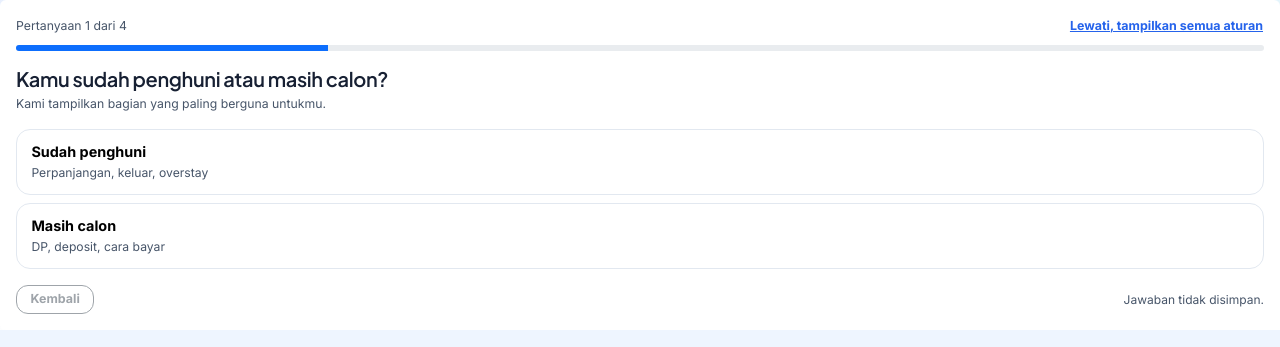
it: TenantRulesWizard — 4 pertanyaan, tanpa penyimpanan › tombol kembali mengembalikan ke pertanyaan sebelumnya
This screenshot has width=1280, height=347.
Step 1. Click the button "Masih calon DP, deposit, cara bayar" → (74, 226), box [16,203,1264,269]
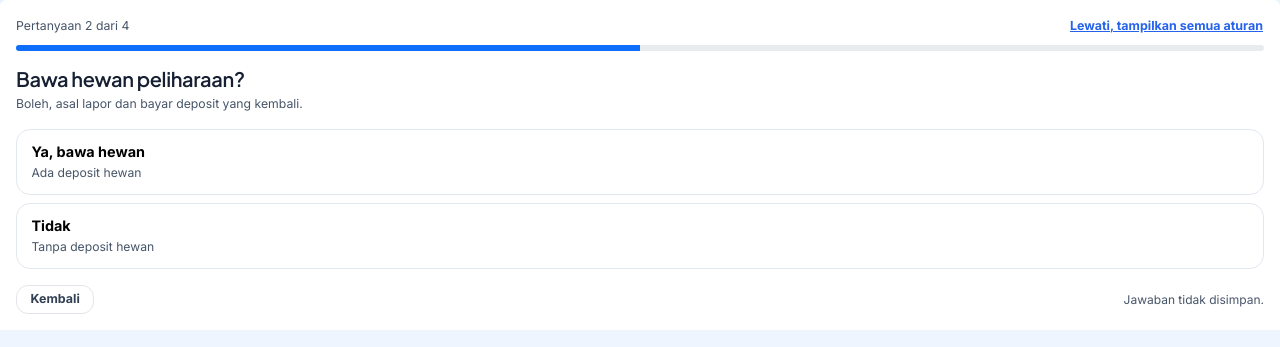
Expected: the text "Pertanyaan 2 dari 4" is shown, [16,17,129,36]
Step 2. Click the button "Kembali" → (55, 300), box [16,285,94,314]
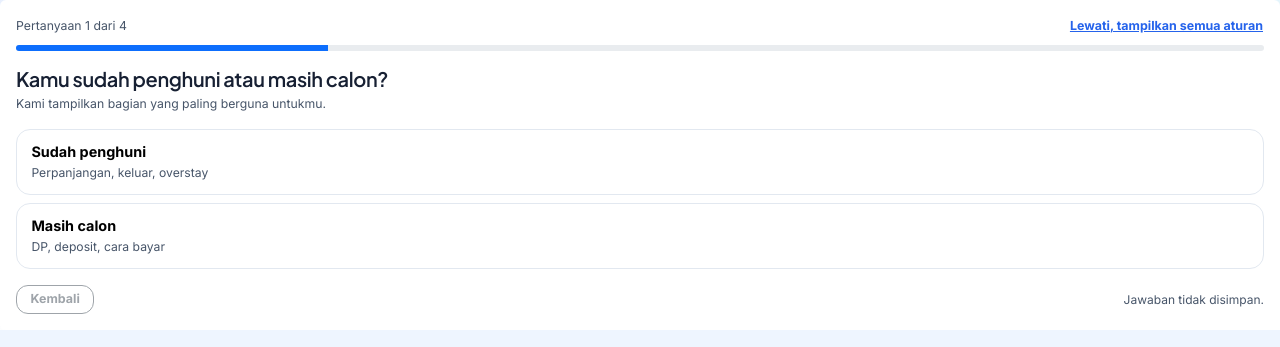
Expected: the text "Pertanyaan 1 dari 4" is shown, [16,17,127,36]
